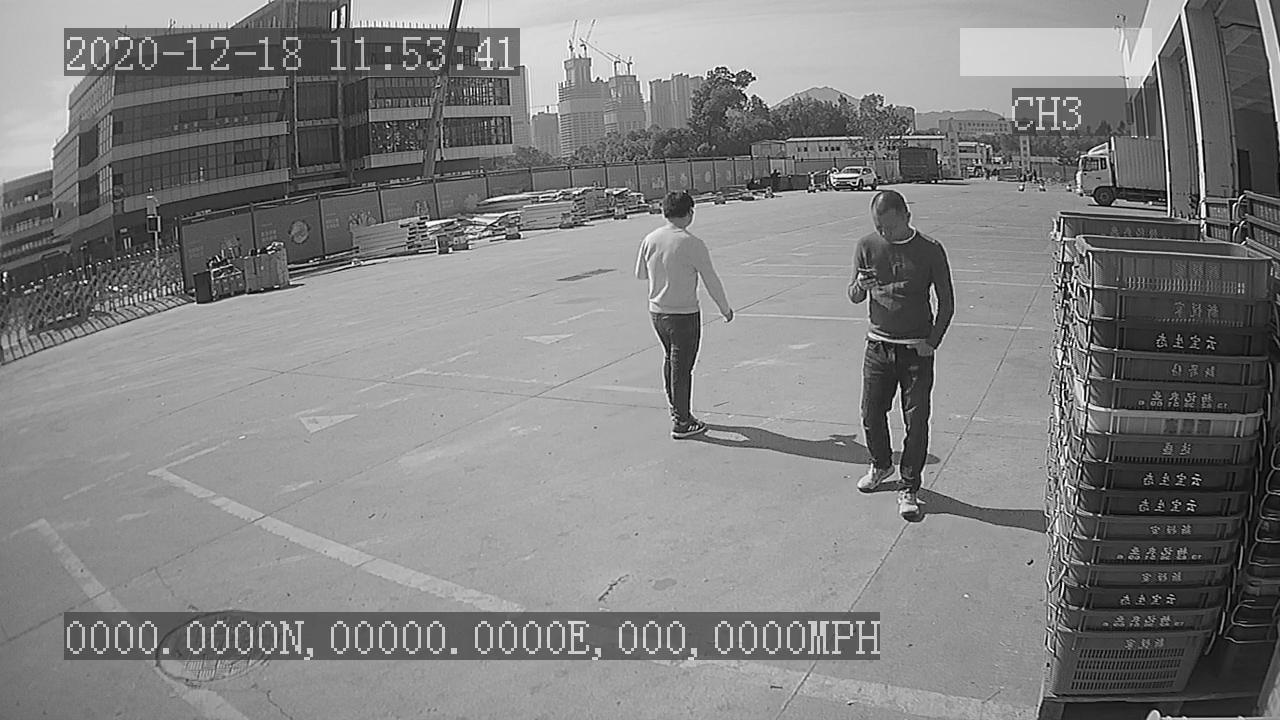person: (843, 181, 961, 527), (629, 183, 740, 447)
